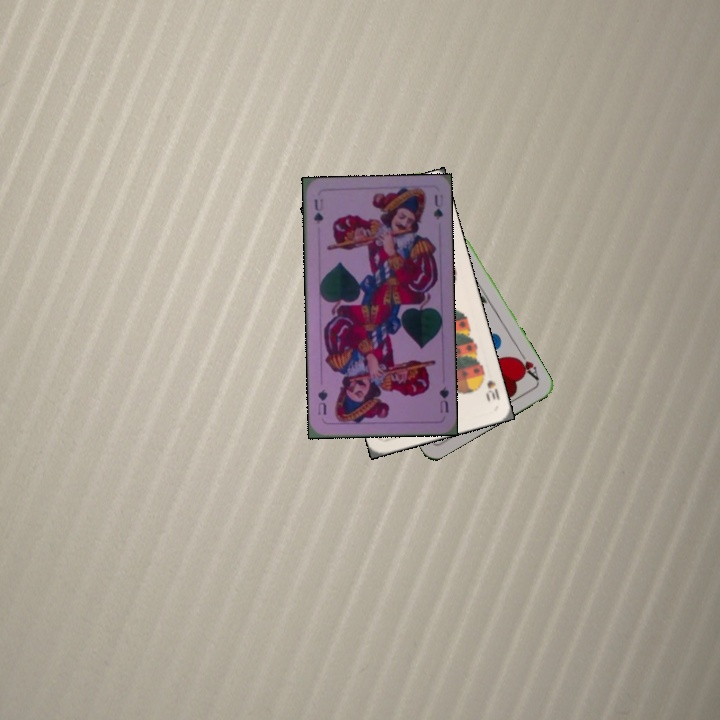GU: (310, 195, 326, 226), (436, 382, 451, 415)
HA: (512, 347, 542, 384)
S10: (477, 368, 502, 404)
